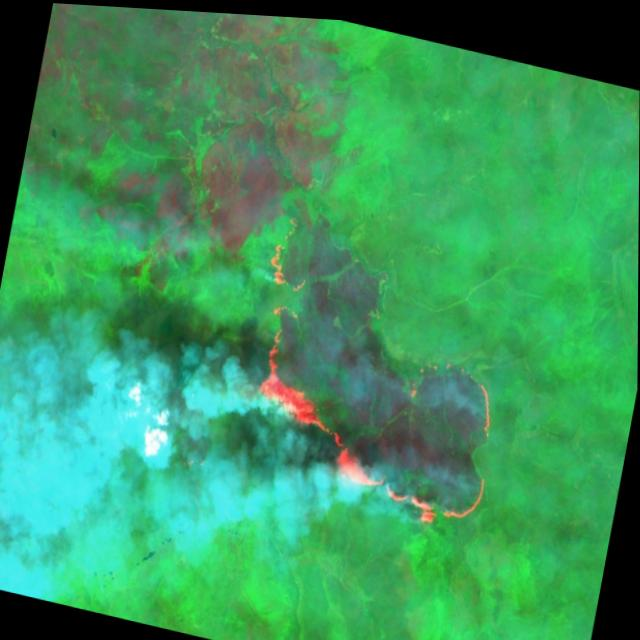fire: (224, 230, 523, 531)
